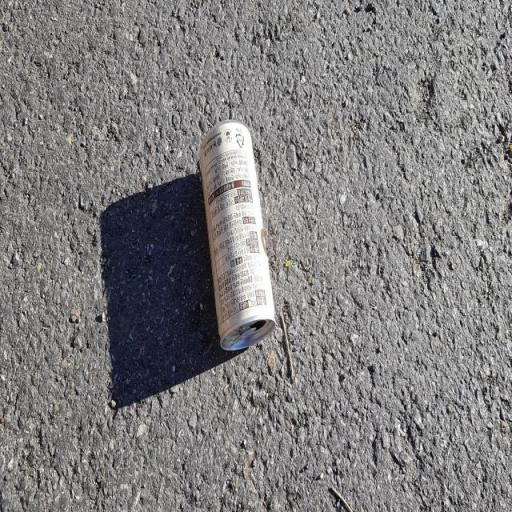metal: (188, 102, 290, 372)
